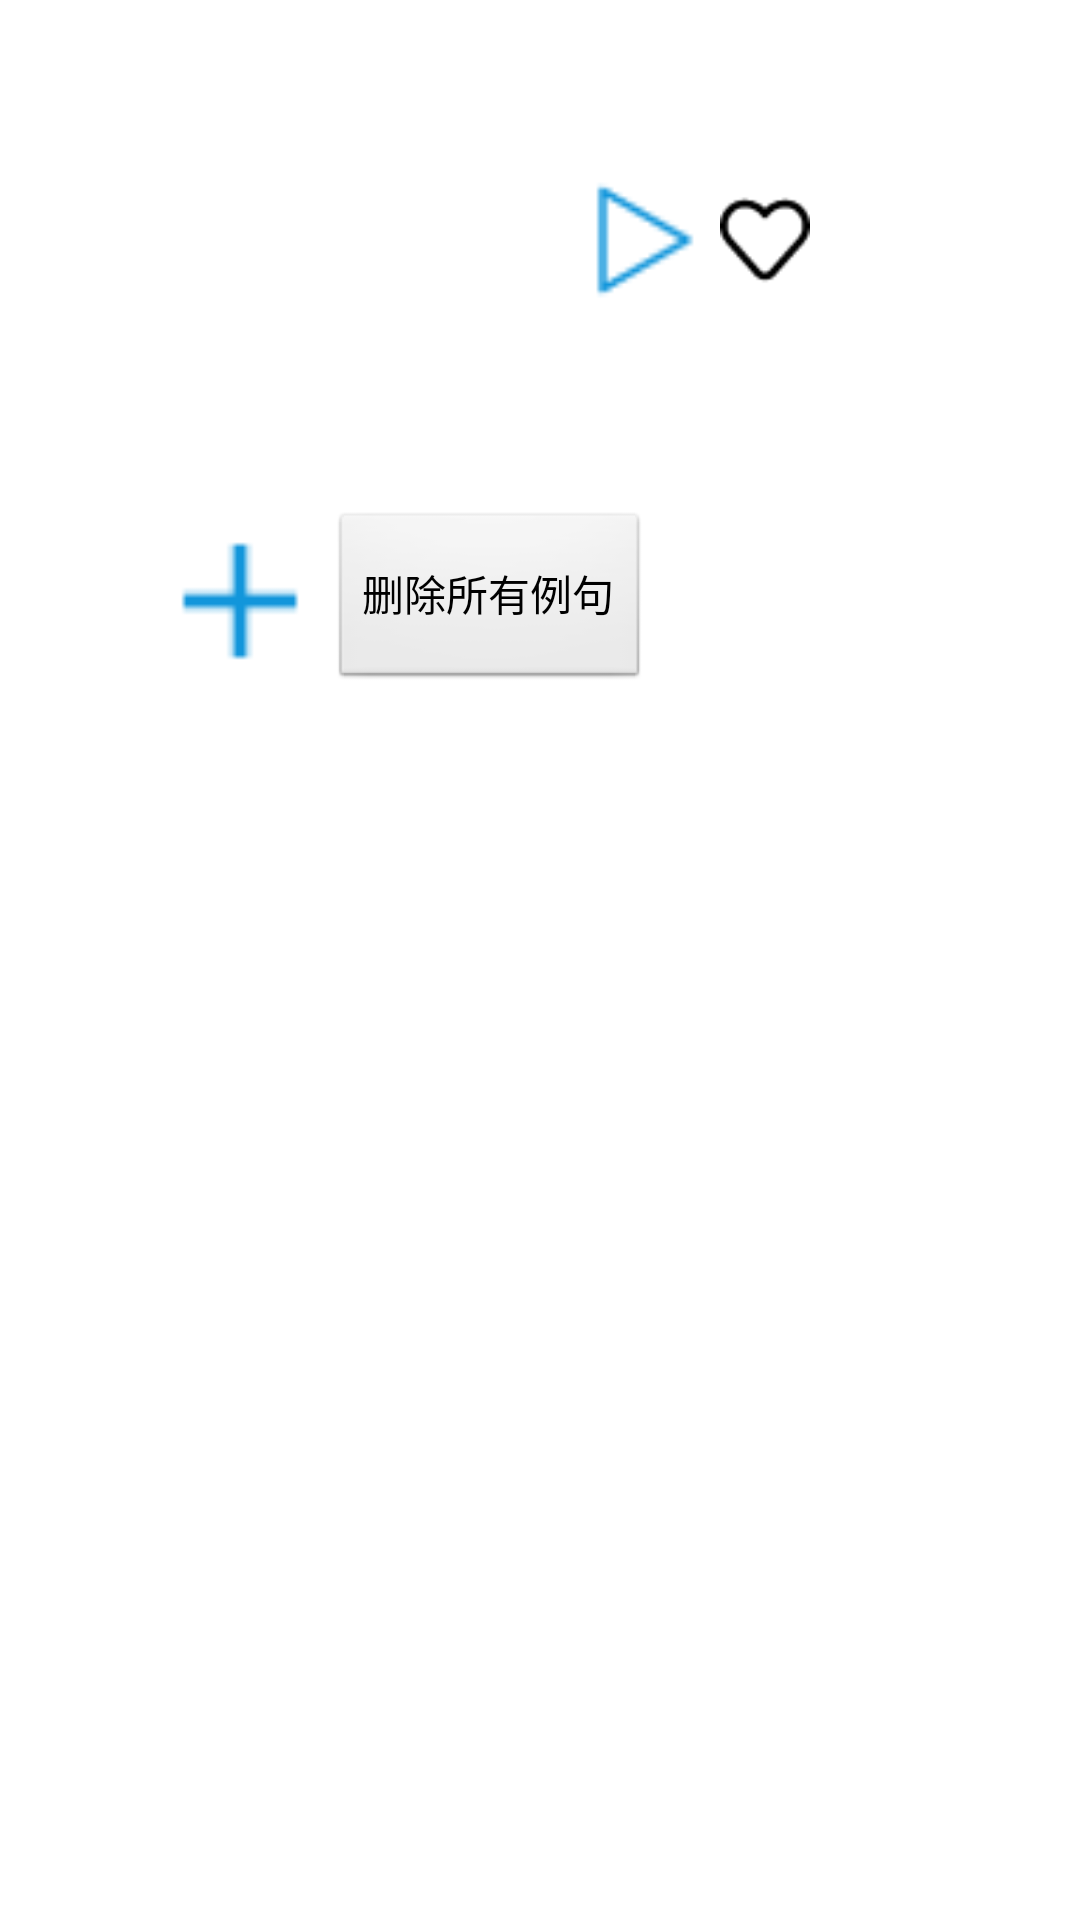

Icons on this 1080w x 1920h Android screen, each with its box as (x1, y1, x2, y2):
add: (182, 543, 298, 659)
